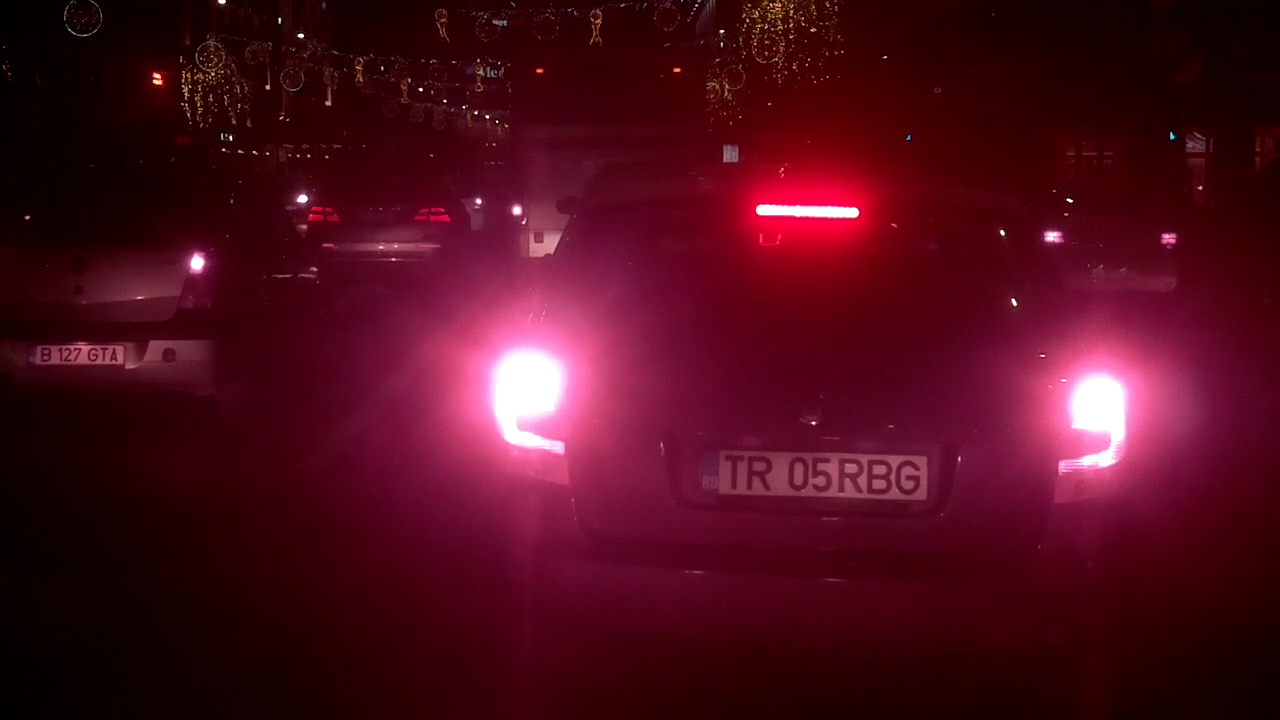license-plate: (695, 439, 936, 506), (23, 339, 130, 368)
